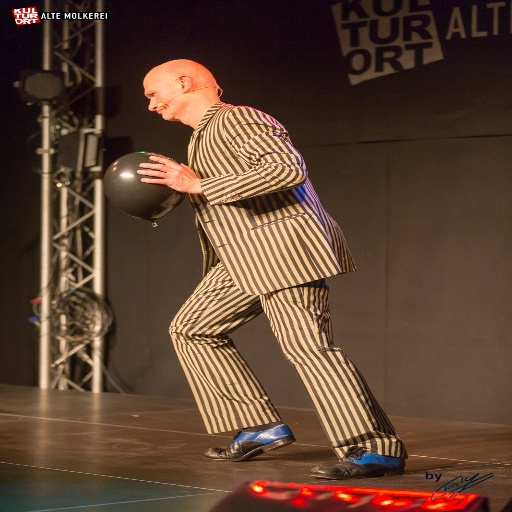hand: (136, 156, 199, 192)
